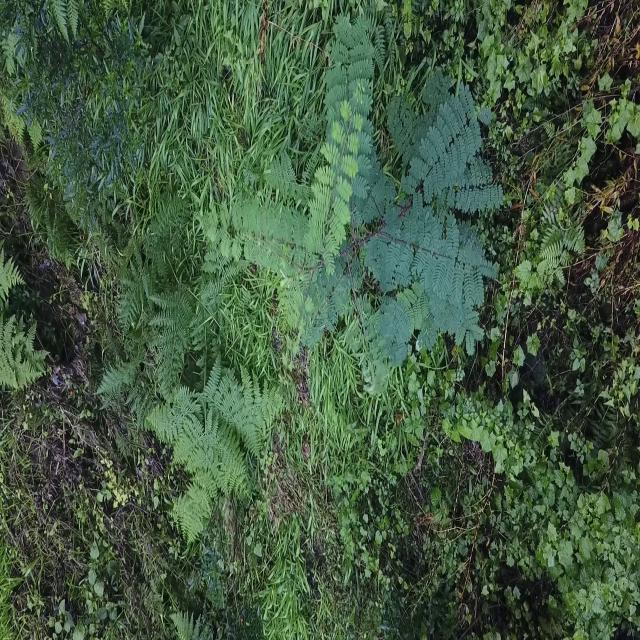Mysore-Thorn-Weed: (198, 21, 507, 393)
